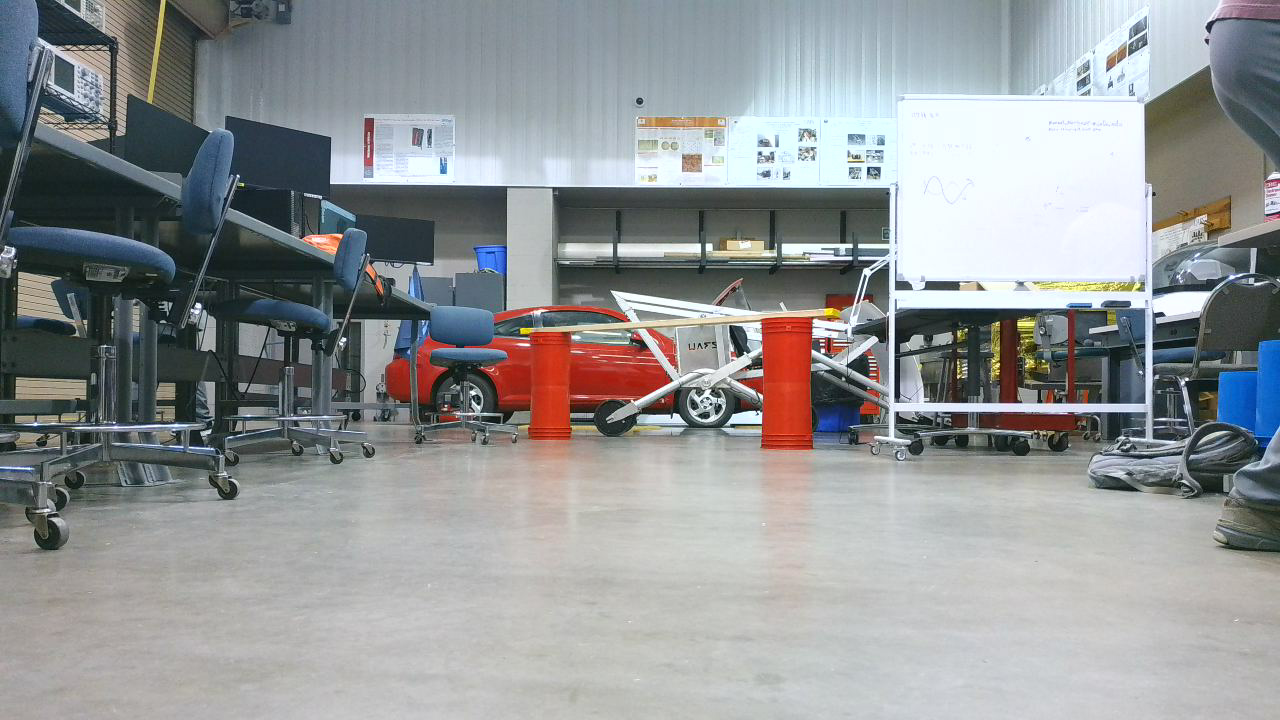red_bucket_arch: (522, 308, 850, 459)
